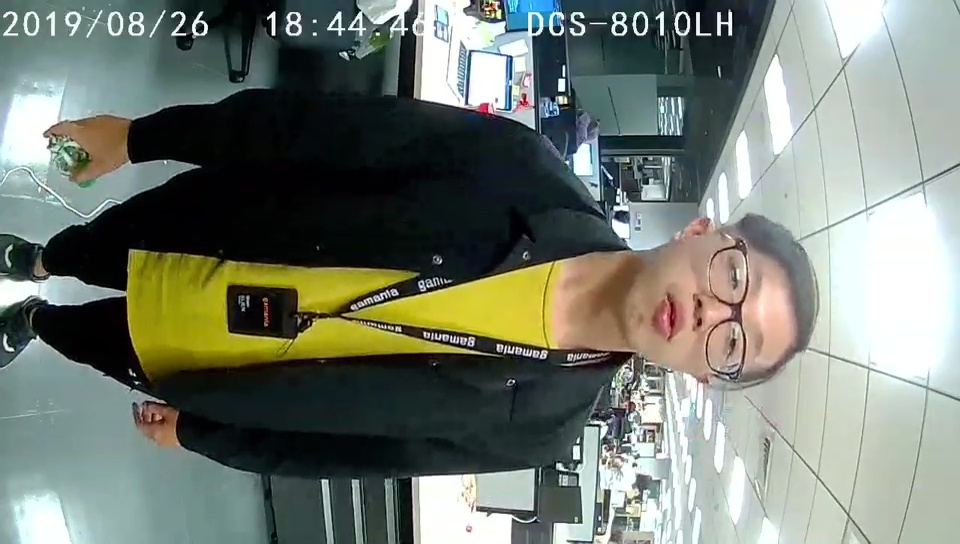buzz: (46, 132, 90, 175)
